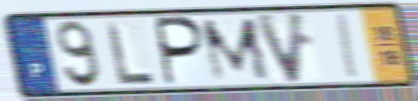9: (54, 18, 104, 91)
I: (336, 12, 362, 82)
L: (103, 19, 158, 88)
M: (198, 15, 274, 85)
P: (154, 15, 209, 89)
V: (251, 10, 310, 87)
